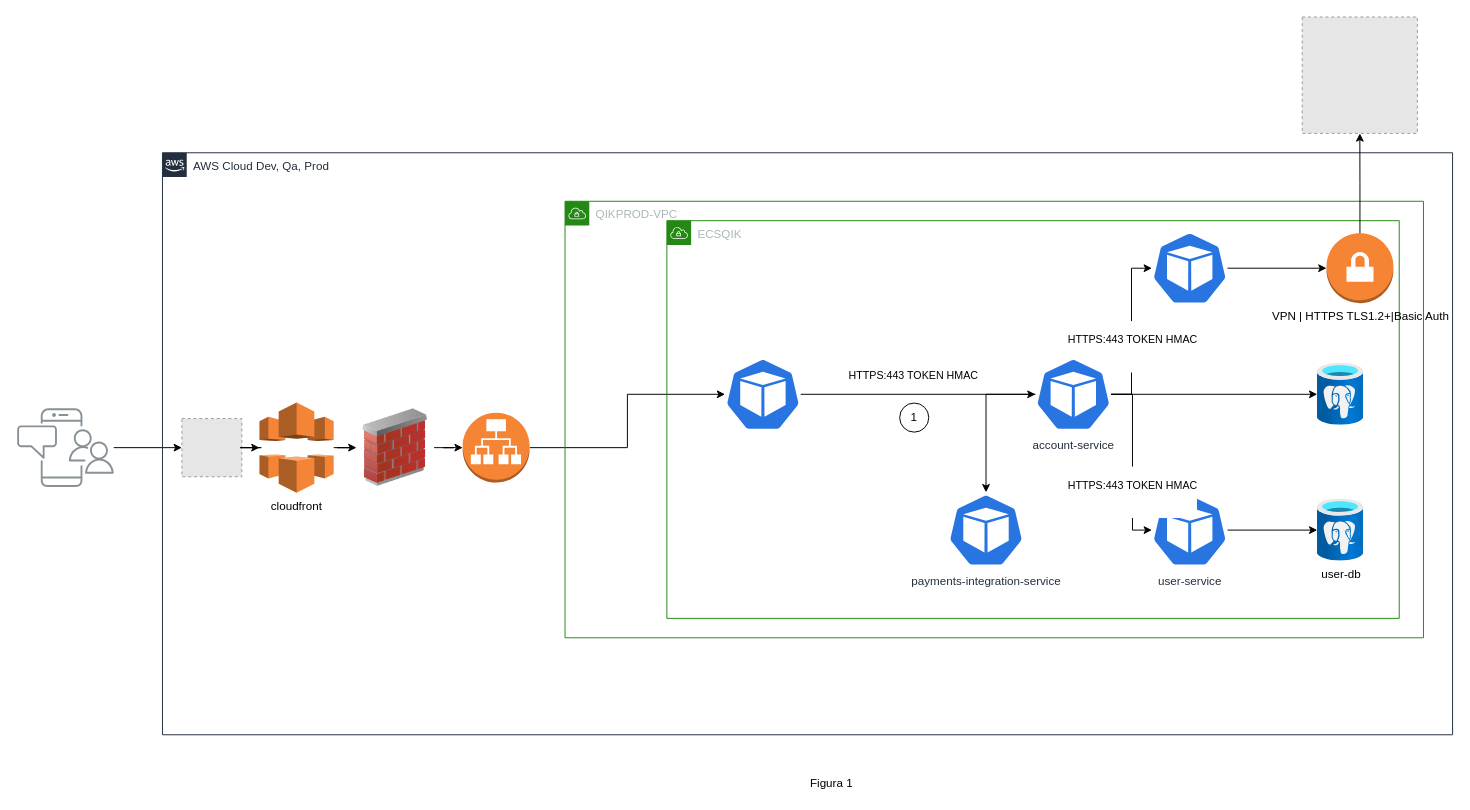
Some shapes in this 1470 by 810 pixel diagram are drawn without their labels. Grey dashed boxes stand in for pictures. The shapes that lost their labels are listed below. From the top down, each one's centre as x and y in pixels, then its label:
pixel 1189 267: business-rules-engine-service
pixel 762 394: GraphQL Service
pixel 1340 394: account-db
pixel 64 447: Mobile Client
pixel 496 447: Application Load Balancer
